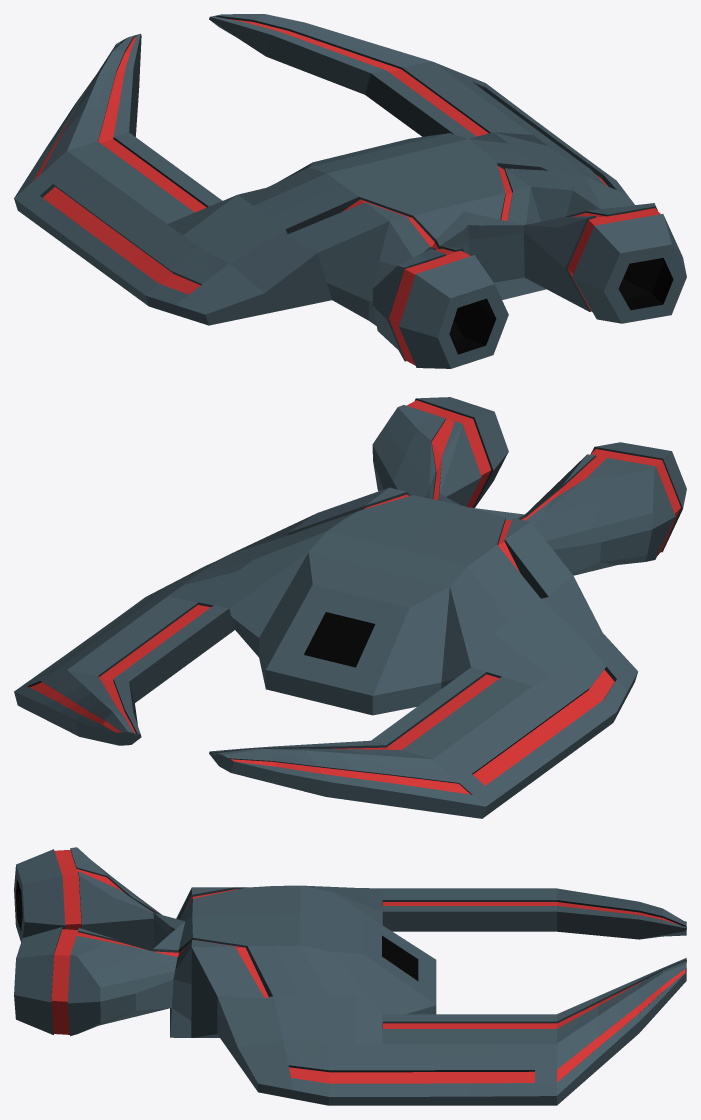
Rendered from player ship new.fbx.
3 views of the same model, one above another, from view 1: azimuth 30°, elevation 25°; view 2: azimuth 150°, elevation 25°; view 3: azimuth 270°, elevation 25° (orthographic). The views are drawn at different scales.
Parts seen in each view (by area): view 1: Cube; view 2: Cube; view 3: Cube.
Boxes of the visible parts, left/top/right/bottom form: Cube: left=14, top=14, right=686, bottom=368; Cube: left=14, top=397, right=686, bottom=818; Cube: left=14, top=847, right=686, bottom=1105.
Size of the model in its own units: 882 by 219 by 1254.
1 material, 1 textured.
